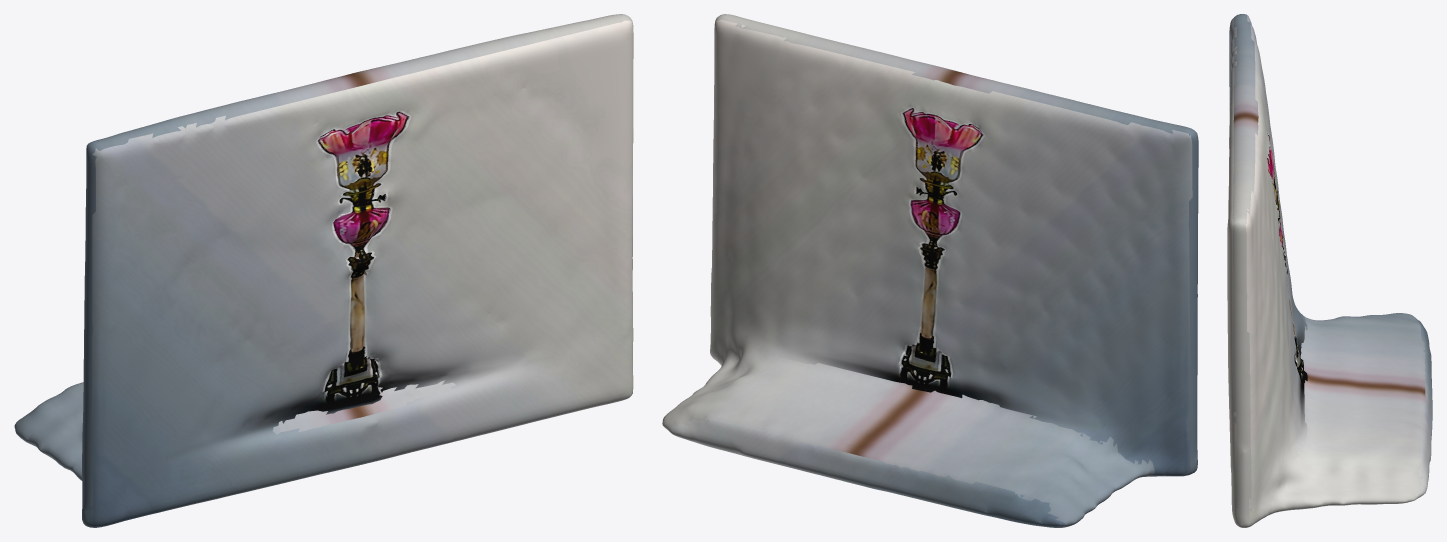
File: kfl-2242.glb
The picture shows the model from 3 angles, left to right: view 1: azimuth 30°, elevation 25°; view 2: azimuth 150°, elevation 25°; view 3: azimuth 270°, elevation 25°; orthographic projection. The views are drawn at different scales.
Parts seen in each view (by area): view 1: kfl-2242; view 2: kfl-2242; view 3: kfl-2242.
Part boxes in pixels (bbox=[...]): kfl-2242: bbox=[14, 14, 633, 527]; kfl-2242: bbox=[662, 14, 1198, 527]; kfl-2242: bbox=[1227, 14, 1432, 527].
Bounding box in the file's own units: 0.9937 × 0.6747 × 0.4048.
Materials: 4 (4 with a texture image).
